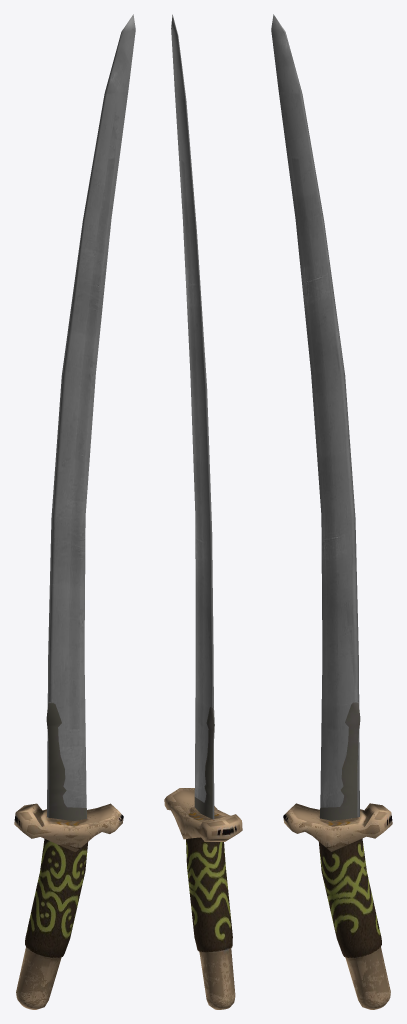
The model's file is nomad_sabre.glb.
3 renders of one model, left to right at view 1: azimuth 90°, elevation 25°; view 2: azimuth 210°, elevation 25°; view 3: azimuth 270°, elevation 25°, orthographic. The views are drawn at different scales.
Bounding box in the file's own units: 0.0735 × 2 × 0.2216.
Materials: 1 (1 with a texture image).
